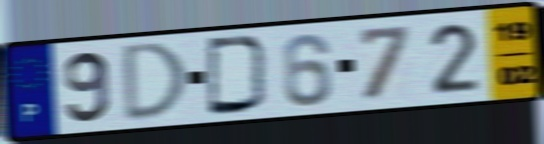2: (426, 21, 484, 97)
6: (280, 30, 333, 109)
7: (357, 22, 414, 104)
9: (62, 50, 111, 124)
D: (121, 39, 190, 125), (204, 34, 272, 117)
